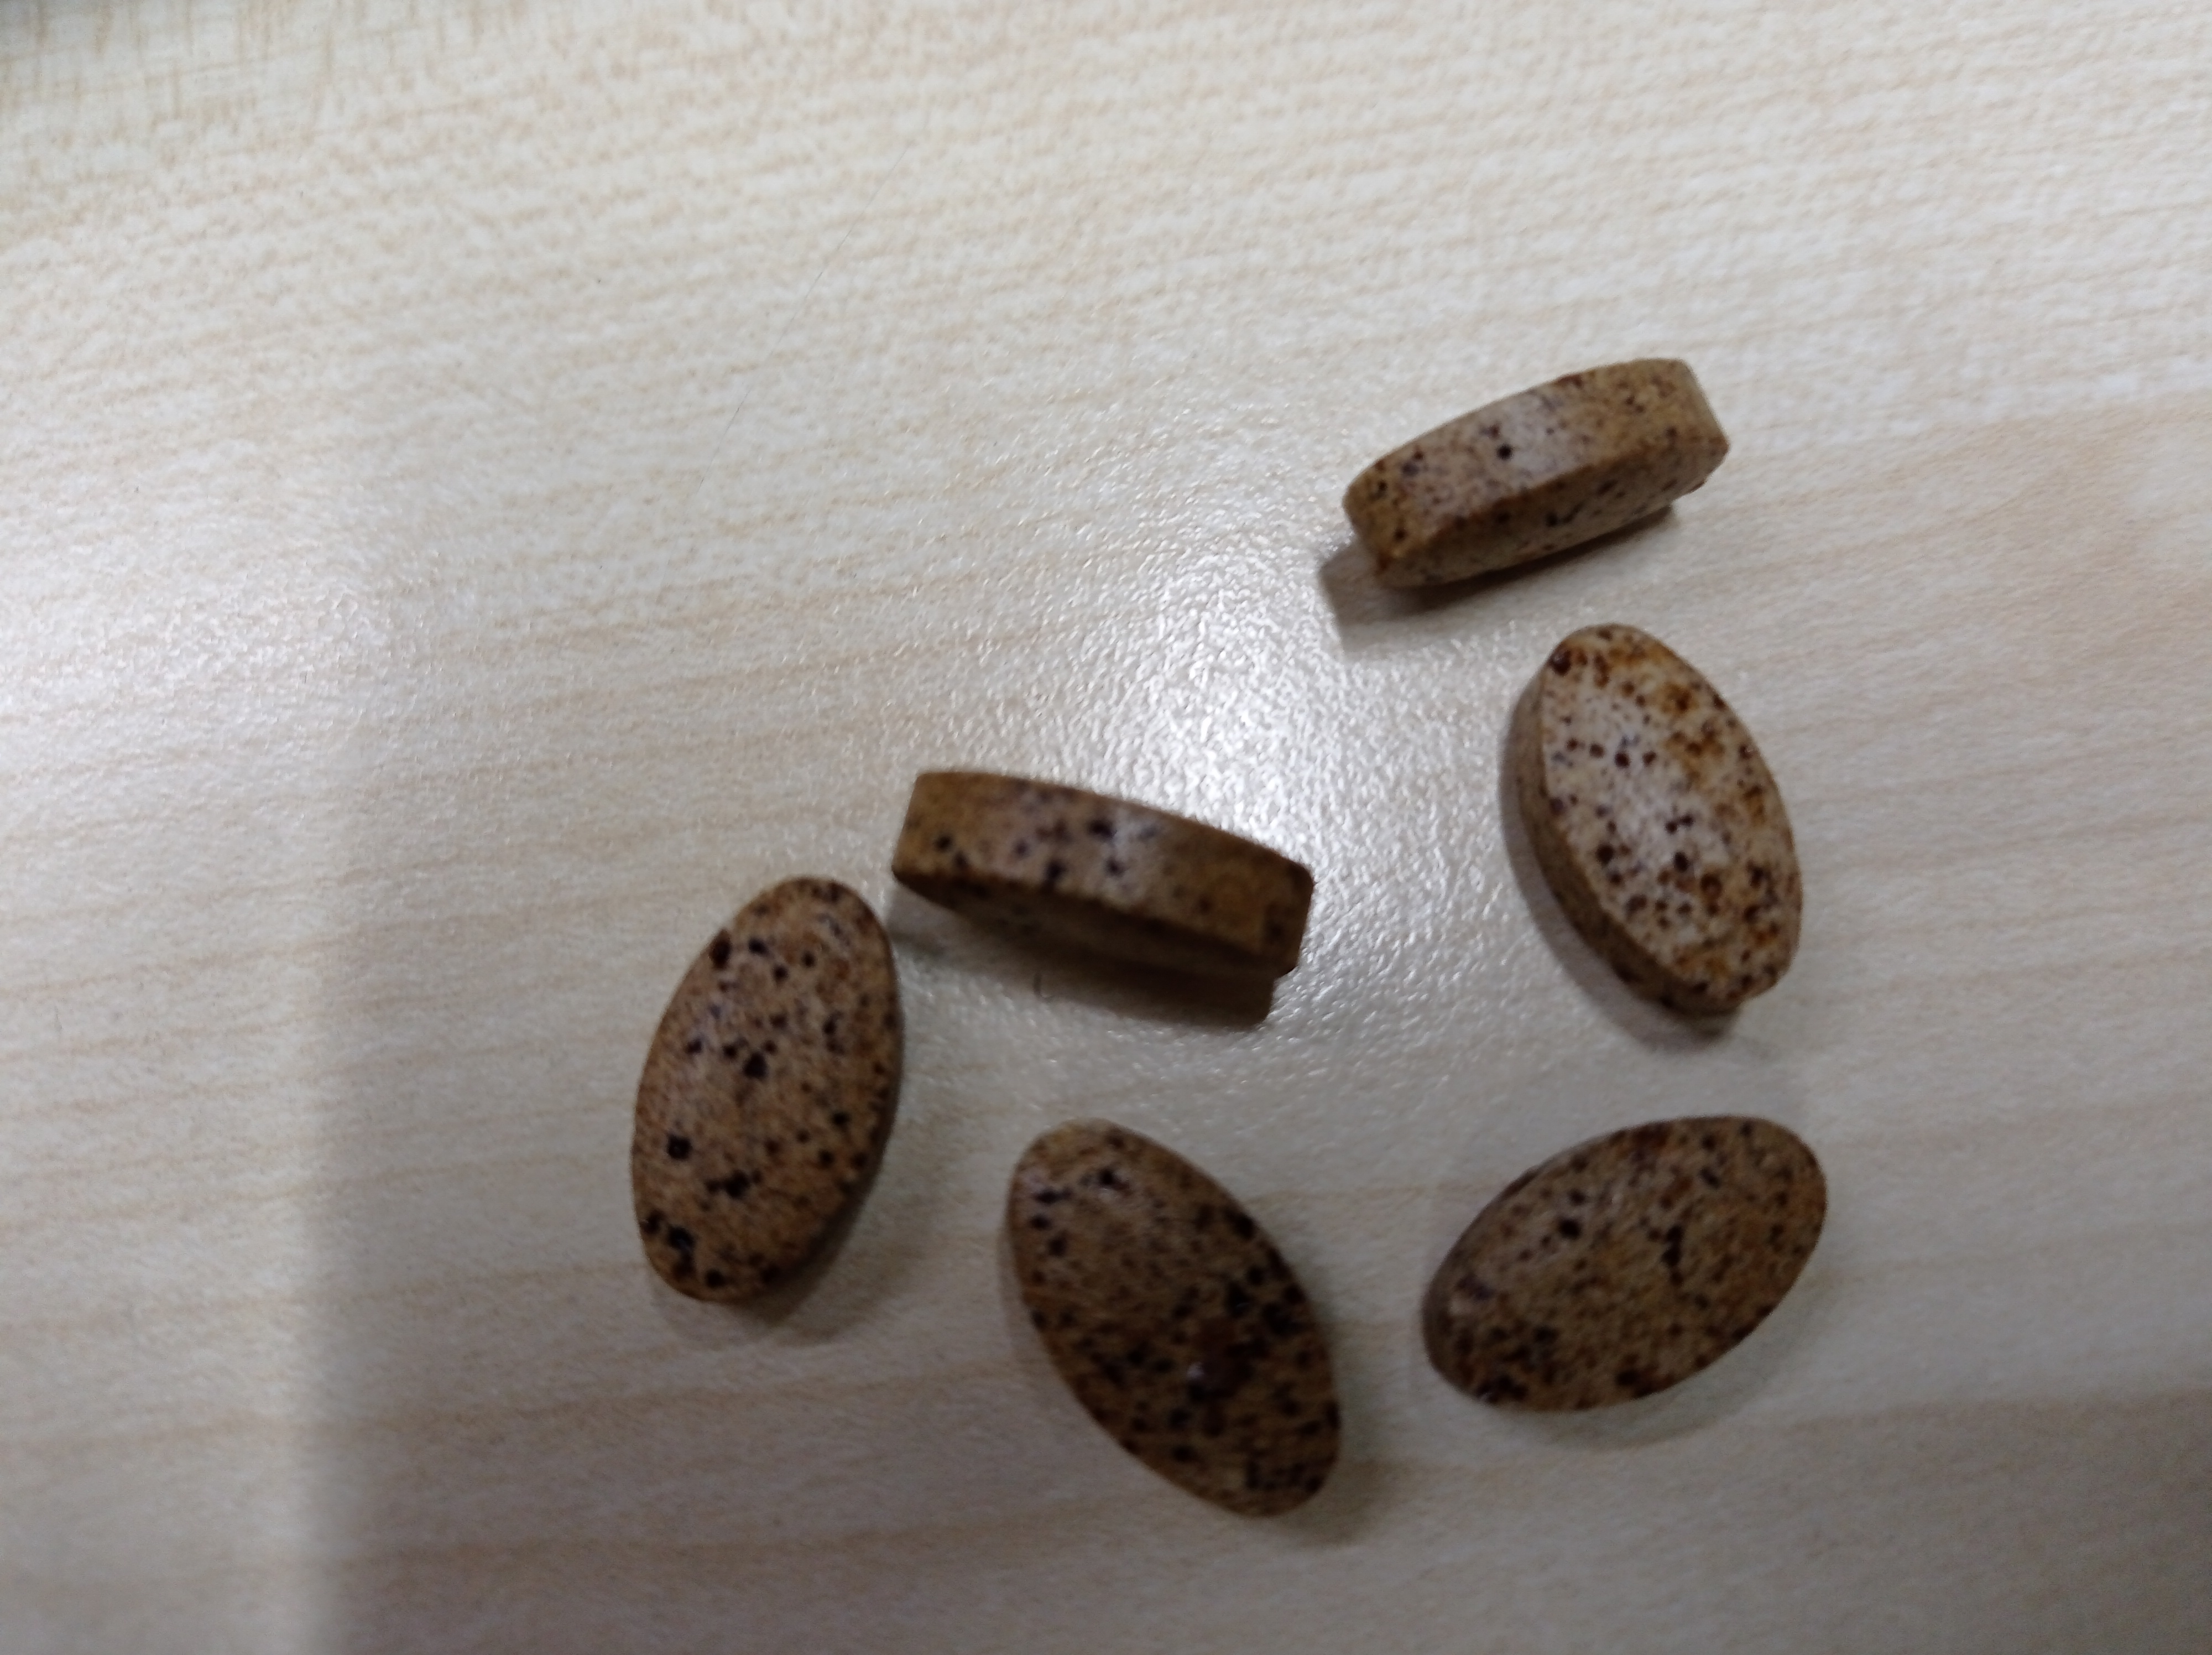brown_medicine: (1004, 1118, 1348, 1525), (1428, 1114, 1831, 1412), (631, 874, 907, 1307), (1508, 624, 1807, 1015), (888, 770, 1319, 993), (1341, 358, 1734, 589)
